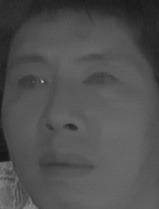eye: (82, 70, 120, 91), (17, 72, 49, 94)
mouth: (33, 145, 94, 184)
